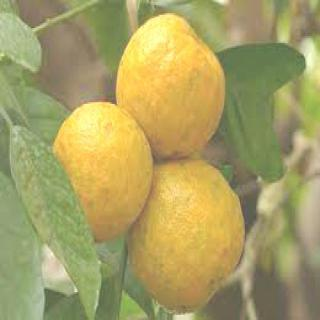orange: (126, 142, 250, 320), (111, 5, 233, 169), (50, 93, 150, 265)
